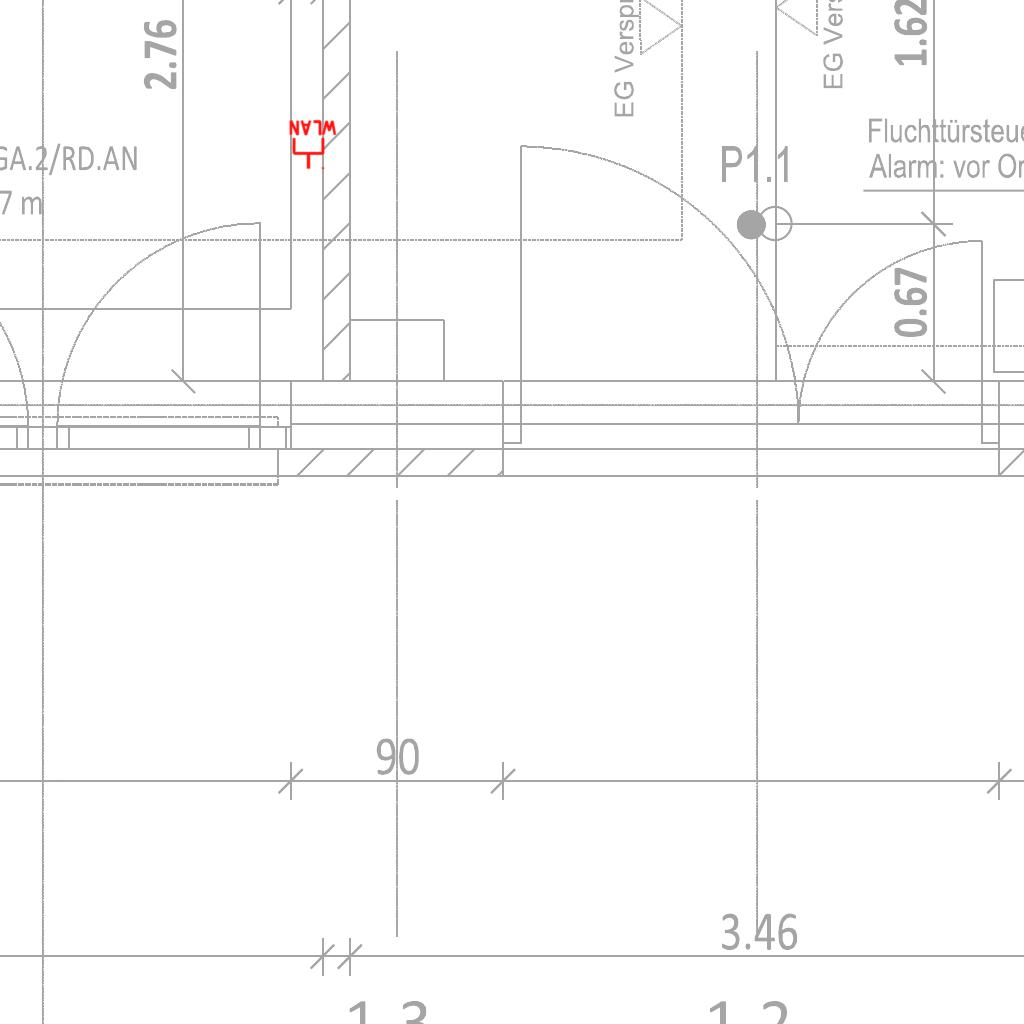WLAN: (287, 119, 339, 171)
